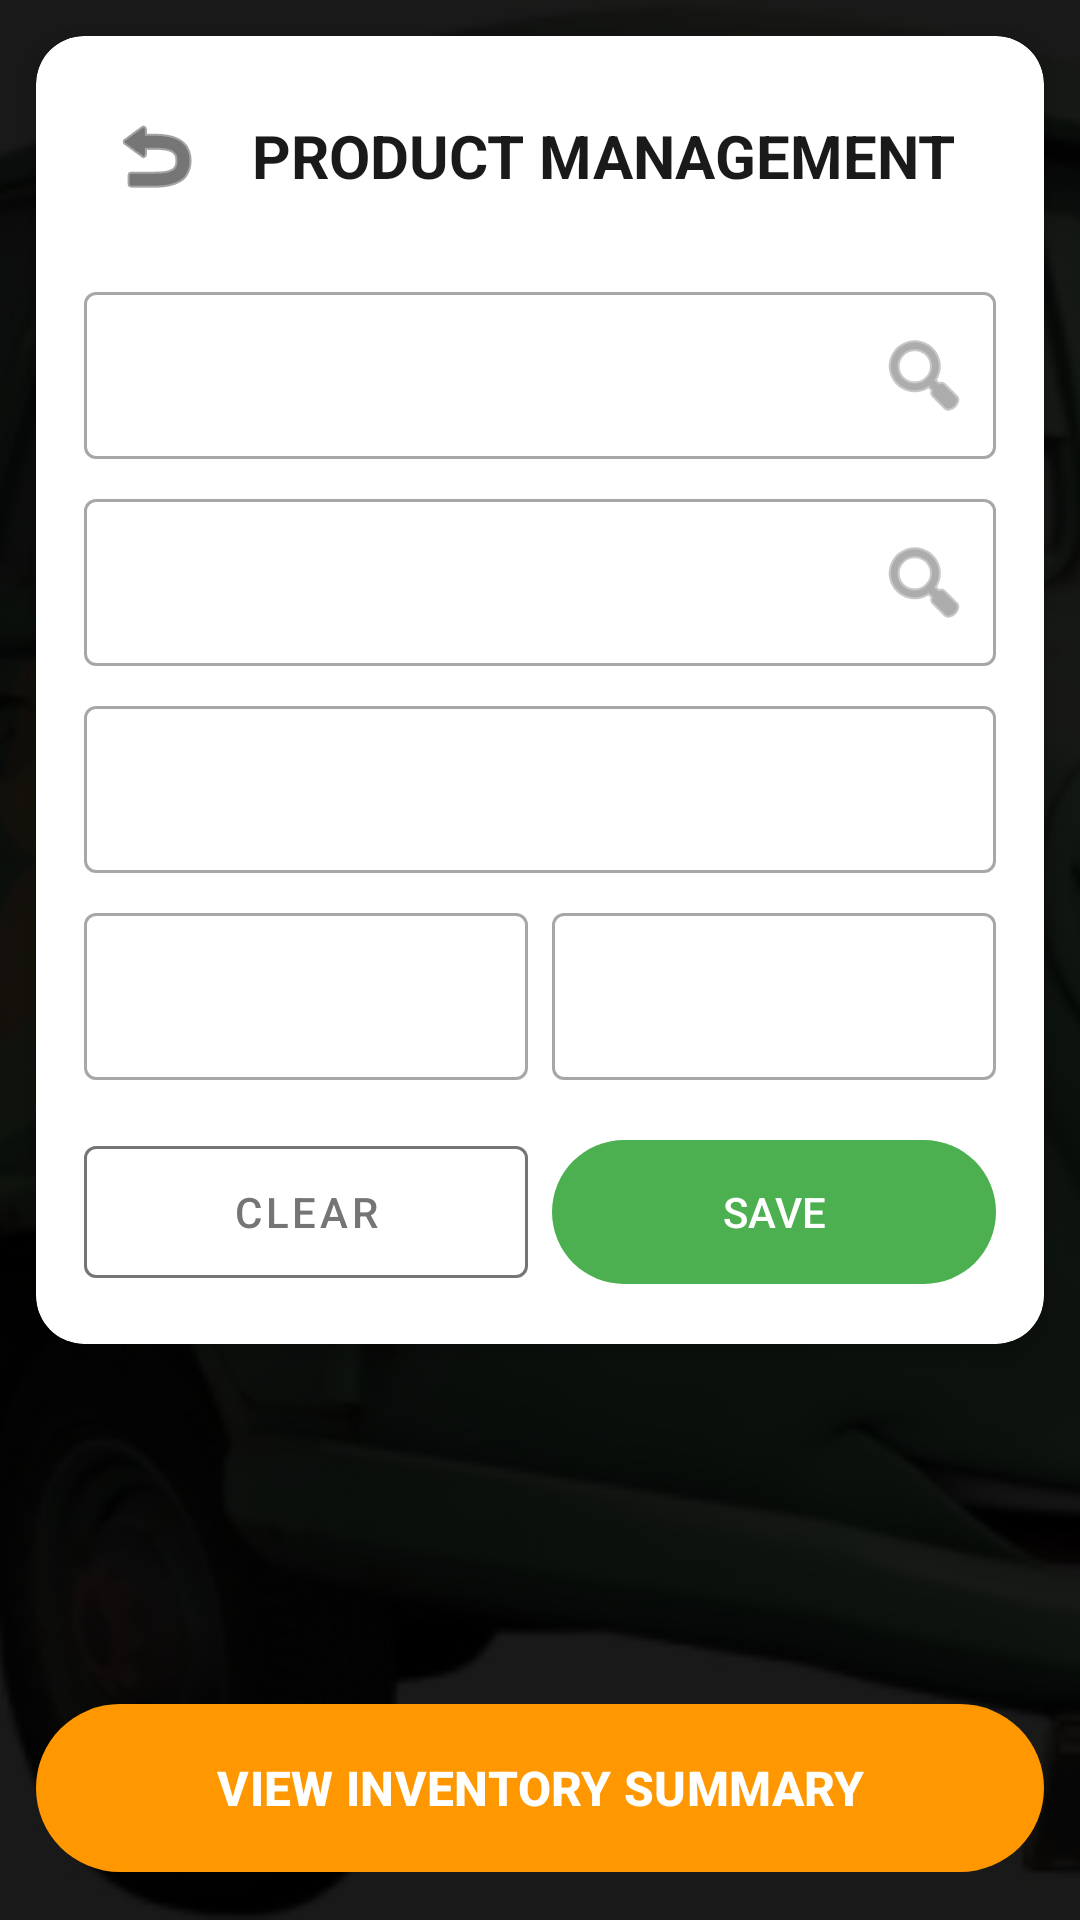

Where to tap for icons on this 1080w x 1920h app screen, as [x,y]:
revert: [157,156]
